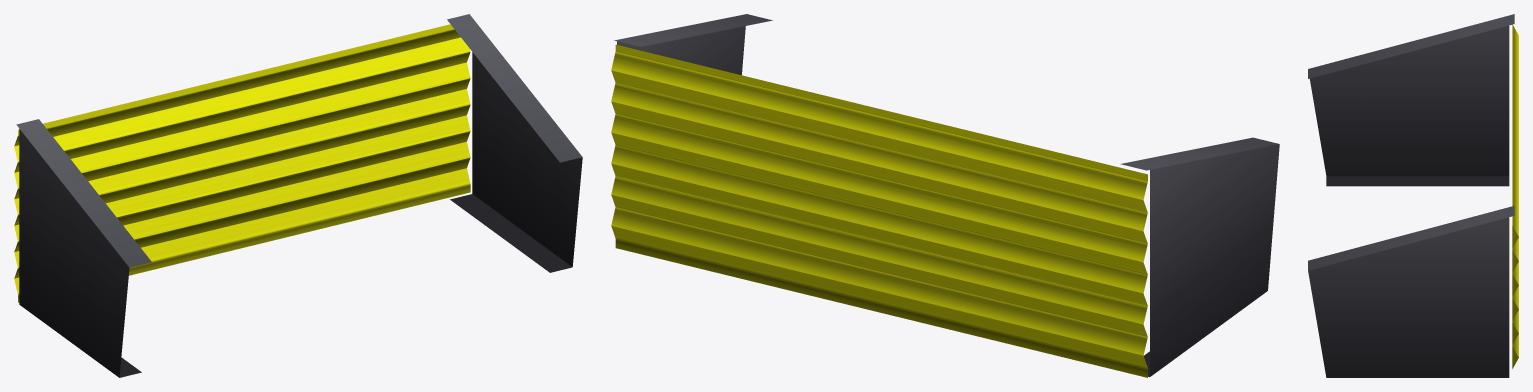
Rendered from equipment_0014_reboundboard1.glb.
The picture shows the model from 3 angles, left to right: view 1: azimuth 30°, elevation 25°; view 2: azimuth 150°, elevation 25°; view 3: azimuth 270°, elevation 25°; orthographic projection. The views are drawn at different scales.
Visible parts, largest first — view 1: reboundboard1, reboundboard1back; view 2: reboundboard1, reboundboard1back; view 3: reboundboard1back, reboundboard1.
Boxes of the visible parts, box(x1,y1,x2,y2) form: reboundboard1: box(14, 24, 470, 302); reboundboard1back: box(16, 14, 582, 377); reboundboard1: box(611, 44, 1147, 377); reboundboard1back: box(614, 14, 1279, 376); reboundboard1back: box(1308, 14, 1514, 377); reboundboard1: box(1512, 24, 1518, 368).
Bounding box in the file's own units: 120 × 45 × 53.
Materials: 2 (2 with a texture image).
